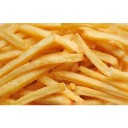frenchfries: (1, 23, 128, 105)
